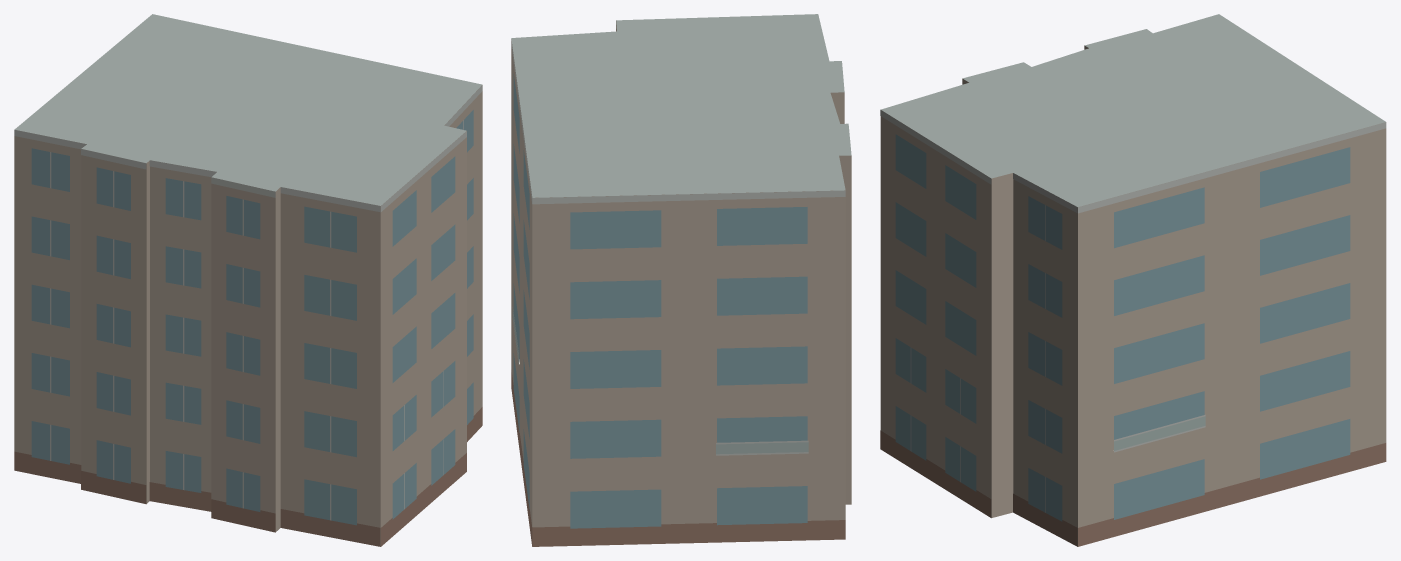
Rendered from survey-upis-33025289.glb.
3 views of the same model, side by side, from view 1: azimuth 30°, elevation 25°; view 2: azimuth 150°, elevation 25°; view 3: azimuth 270°, elevation 25° (orthographic). The views are drawn at different scales.
Visible parts, largest first — view 1: survey-upis-33025289.tmp; view 2: survey-upis-33025289.tmp; view 3: survey-upis-33025289.tmp.
Part boxes in pixels (x1=…): survey-upis-33025289.tmp: x1=14, y1=14, x2=482, y2=546; survey-upis-33025289.tmp: x1=511, y1=14, x2=851, y2=546; survey-upis-33025289.tmp: x1=880, y1=14, x2=1386, y2=546.
Size of the model in its own units: 16.05 by 13.15 by 17.75.
